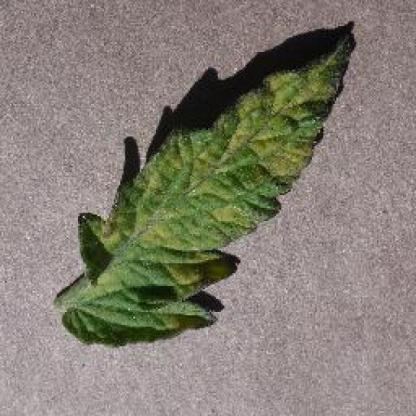Tomato_Leaf_Mold: (64, 34, 354, 348)
